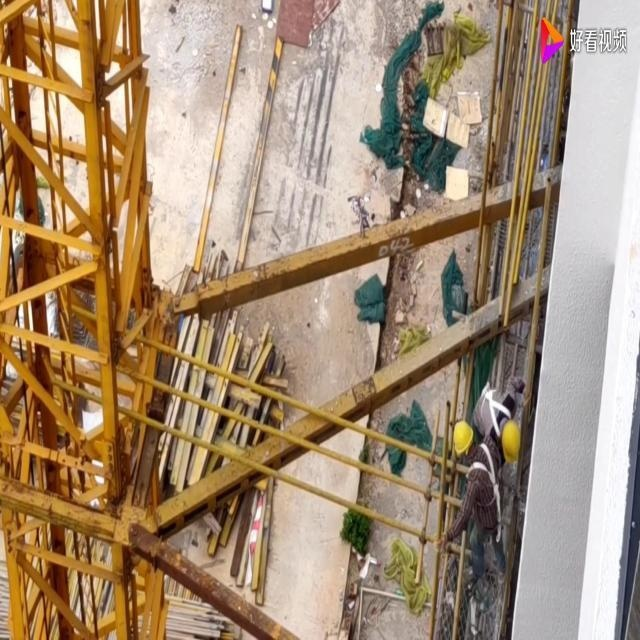Arnes_seguridad: (465, 440, 502, 510), (477, 378, 513, 439)
